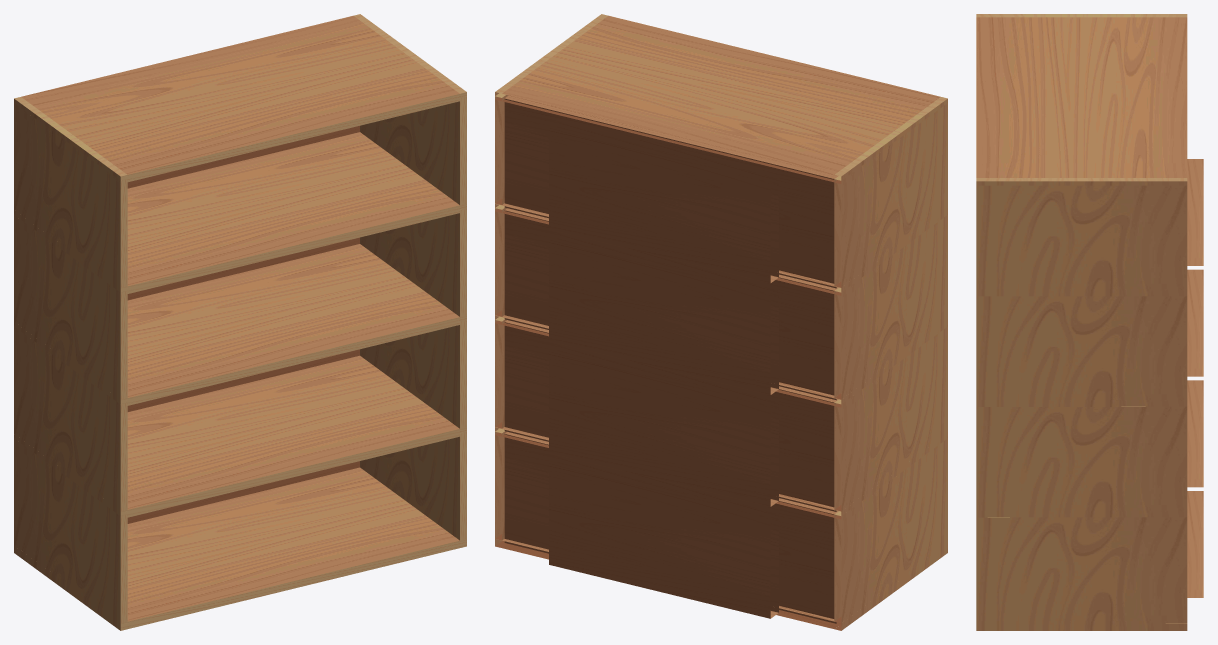
Rendered from layout_wide_5s.fbx.
3 renders of one model, left to right at view 1: azimuth 30°, elevation 25°; view 2: azimuth 150°, elevation 25°; view 3: azimuth 270°, elevation 25°, orthographic.
Parts seen in each view (by area): view 1: Shelf-TM-00 3, Shelf-BM-00, Shelf-BM-00 1, Shelf-BM-00 3, Shelf-BM-00 2, Shelf-CL-01, Shelf-CL-01 1, Shelf-CL-01 3, Shelf-CL-01 2, Shelf-CR-01 1, Shelf-CR-01 2, Shelf-CR-01 3 (+11 smaller); view 2: Shelf-TM-00 3, Shelf-Back-00 (1) 3, Shelf-Back-00 (1) 2, Shelf-Back-00 (1) 1, Shelf-Back-00 (1), Shelf-Back-00 3, Shelf-CL-01, Shelf-CL-01 1, Shelf-CL-01 2, Shelf-CL-01 3, Shelf-Back-00, Shelf-Back-00 2 (+12 smaller); view 3: Shelf-TM-00 3, Shelf-CR-01, Shelf-CR-01 2, Shelf-CR-01 3, Shelf-CR-01 1, Shelf-Back-00 (1) 1, Shelf-Back-00 (1) 2, Shelf-Back-00 (1), Shelf-Back-00 (1) 3, Shelf-CR-00, Shelf-CR-00 (1) 3, Shelf-CR-00 (1) 2 (+6 smaller).
Part boxes in pixels (x1,y1,x2,y2): Shelf-TM-00 3: [21, 15, 459, 182]; Shelf-BM-00: [127, 467, 459, 628]; Shelf-BM-00 1: [127, 355, 459, 516]; Shelf-BM-00 3: [127, 132, 459, 293]; Shelf-BM-00 2: [127, 244, 459, 402]; Shelf-CL-01: [14, 438, 127, 623]; Shelf-CL-01 1: [14, 326, 127, 511]; Shelf-CL-01 3: [14, 103, 127, 287]; Shelf-CL-01 2: [14, 215, 127, 399]; Shelf-CR-01 1: [360, 320, 466, 428]; Shelf-CR-01 2: [360, 208, 466, 316]; Shelf-CR-01 3: [360, 96, 466, 205]; Shelf-TM-00 3: [502, 16, 940, 182]; Shelf-Back-00 (1) 3: [549, 119, 778, 283]; Shelf-Back-00 (1) 2: [549, 231, 778, 395]; Shelf-Back-00 (1) 1: [549, 343, 778, 506]; Shelf-Back-00 (1): [549, 455, 778, 618]; Shelf-Back-00 3: [504, 95, 838, 288]; Shelf-CL-01: [834, 438, 947, 623]; Shelf-CL-01 1: [834, 326, 947, 511]; Shelf-CL-01 2: [834, 215, 947, 399]; Shelf-CL-01 3: [834, 103, 947, 287]; Shelf-Back-00: [504, 432, 838, 623]; Shelf-Back-00 2: [504, 208, 838, 400]; Shelf-TM-00 3: [976, 17, 1187, 177]; Shelf-CR-01: [976, 517, 1187, 623]; Shelf-CR-01 2: [976, 296, 1187, 402]; Shelf-CR-01 3: [976, 185, 1187, 291]; Shelf-CR-01 1: [976, 406, 1187, 512]; Shelf-Back-00 (1) 1: [1187, 380, 1203, 487]; Shelf-Back-00 (1) 2: [1187, 269, 1203, 376]; Shelf-Back-00 (1): [1187, 491, 1203, 597]; Shelf-Back-00 (1) 3: [1187, 159, 1203, 265]; Shelf-CR-00: [976, 623, 1187, 630]; Shelf-CR-00 (1) 3: [976, 178, 1187, 185]; Shelf-CR-00 (1) 2: [976, 292, 1187, 296].
Size of the model in its own units: 150 by 188 by 86.3.
